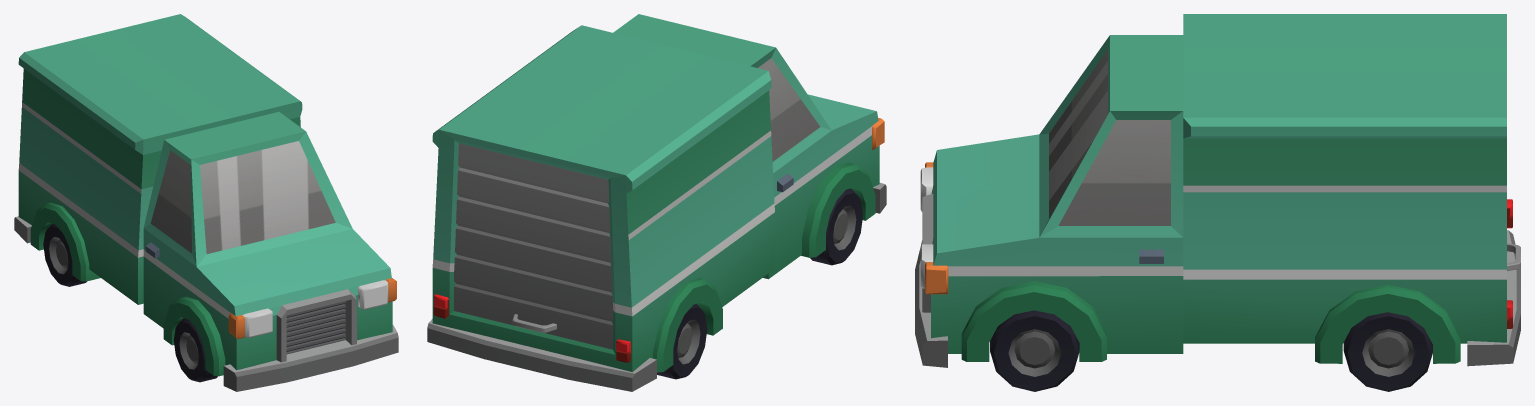
Rendered from PostCar_7.glb.
The picture shows the model from 3 angles, left to right: view 1: azimuth 30°, elevation 25°; view 2: azimuth 150°, elevation 25°; view 3: azimuth 270°, elevation 25°; orthographic projection. The views are drawn at different scales.
Parts seen in each view (by area): view 1: PostCar_7, Wheel_FR, Wheel_BR; view 2: PostCar_7, Wheel_FR, Wheel_BR; view 3: PostCar_7, Wheel_FL, Wheel_BL.
Boxes of the visible parts, bbox=[...] form: PostCar_7: bbox=[14, 14, 398, 391]; Wheel_FR: bbox=[173, 318, 217, 382]; Wheel_BR: bbox=[43, 224, 86, 286]; PostCar_7: bbox=[427, 14, 886, 391]; Wheel_FR: bbox=[810, 188, 863, 265]; Wheel_BR: bbox=[657, 304, 707, 379]; PostCar_7: bbox=[915, 14, 1520, 367]; Wheel_FL: bbox=[990, 310, 1079, 391]; Wheel_BL: bbox=[1343, 312, 1432, 391].
Bounding box in the file's own units: 1.18 × 1.24 × 2.51.
Materials: 5 (5 with a texture image).
